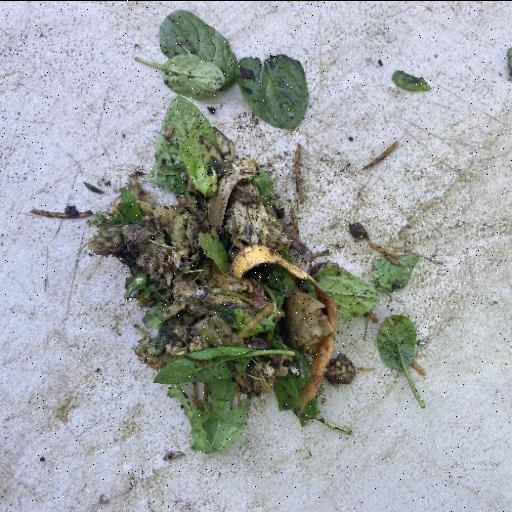Waste: (32, 12, 430, 456)
